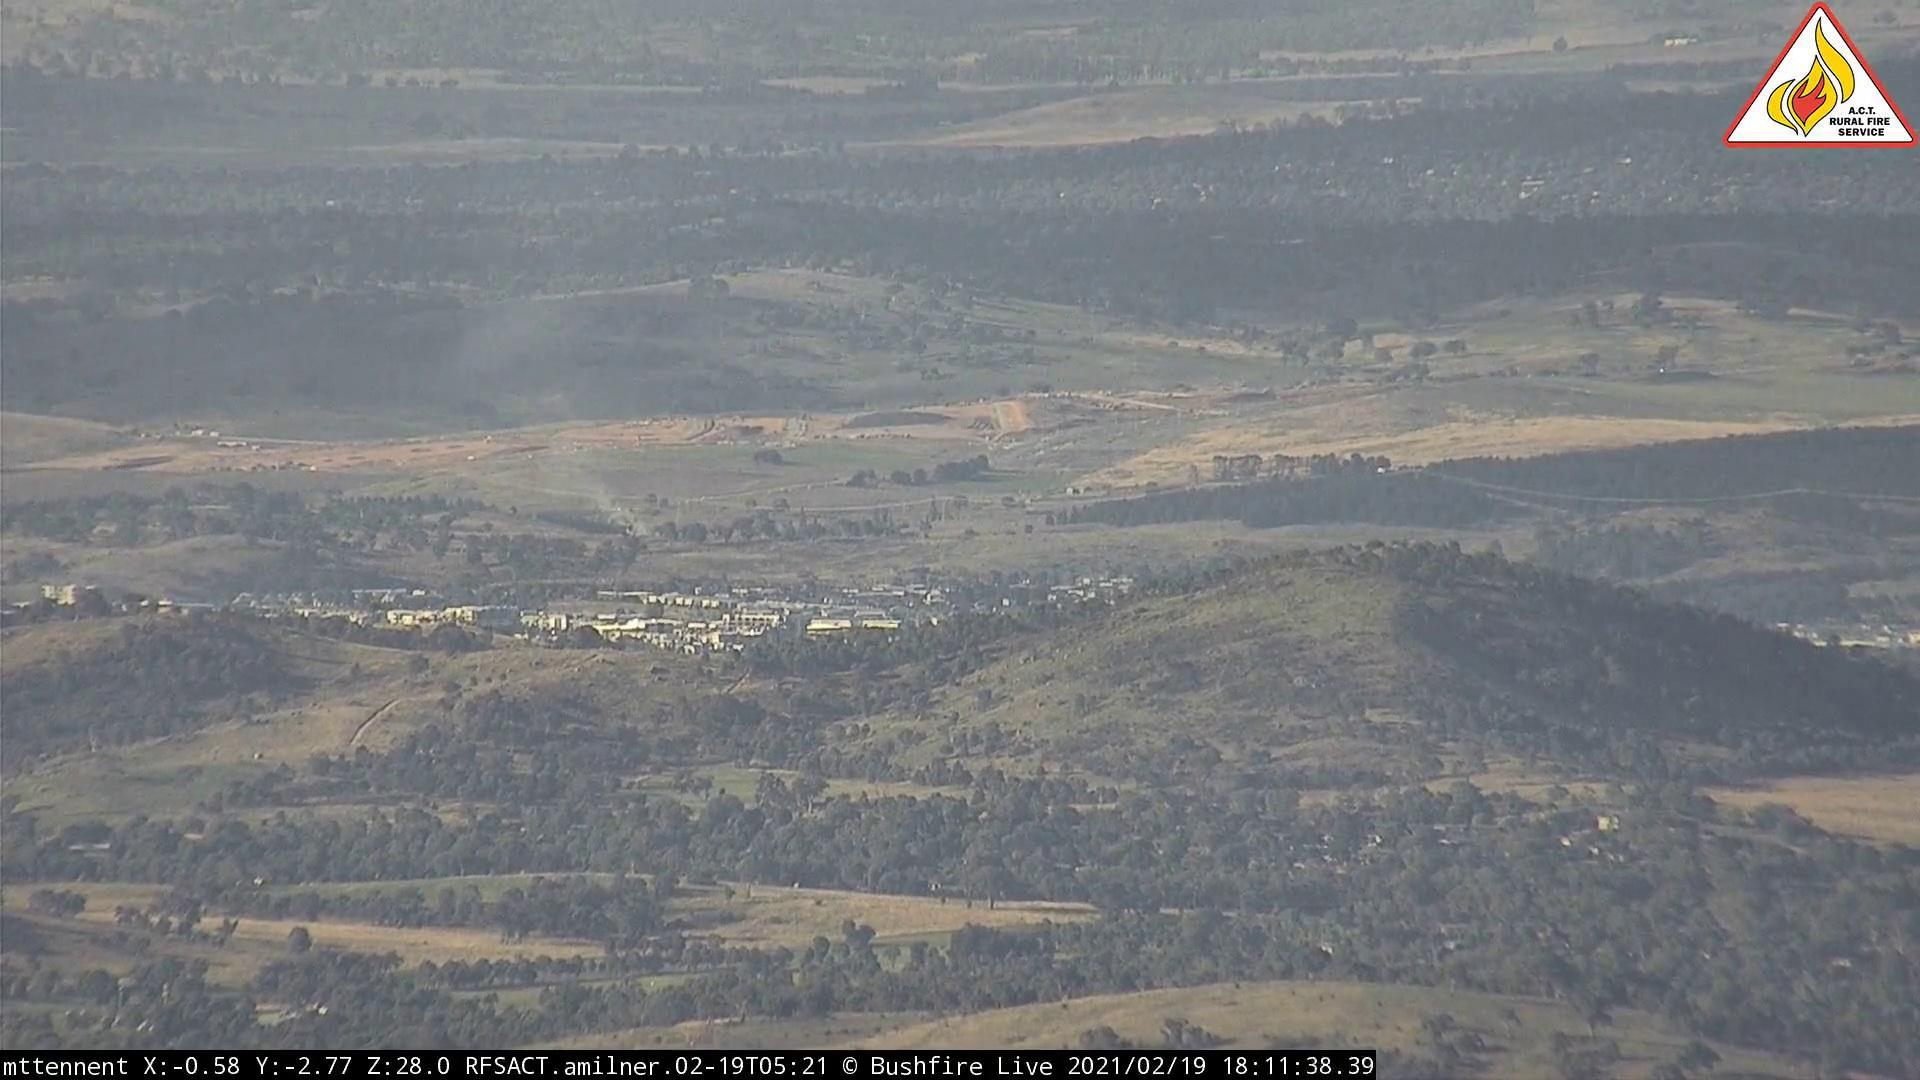Smoke: (612, 495, 659, 556)
